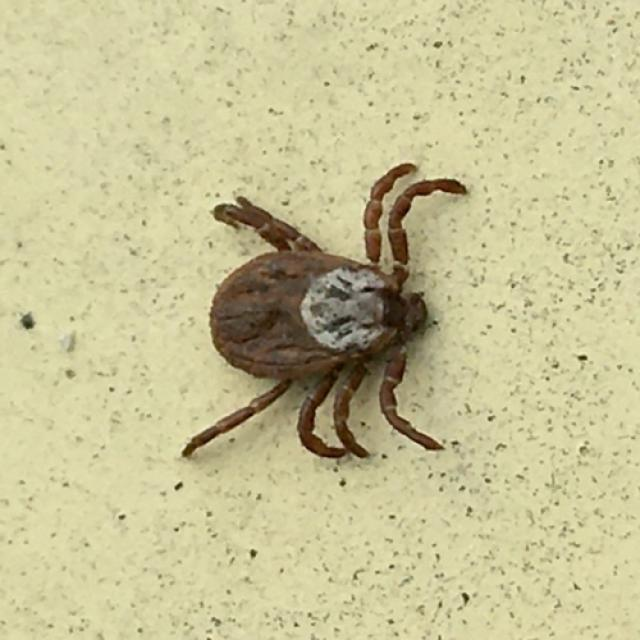Dermacentor Reticulatus-F: (180, 163, 468, 461)
